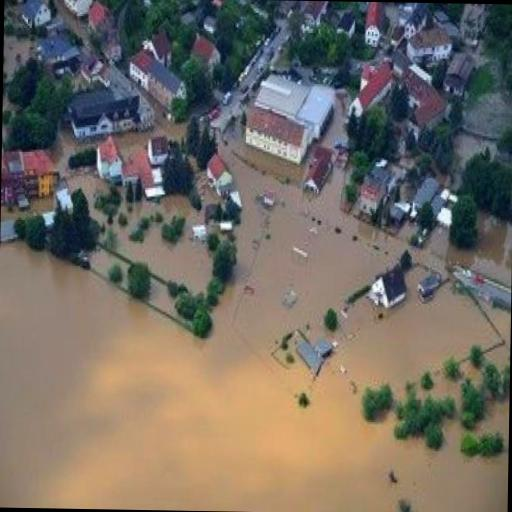house: (244, 83, 318, 166), (102, 130, 170, 208), (67, 88, 144, 144), (348, 58, 394, 146), (1, 148, 60, 212), (406, 69, 450, 139), (147, 52, 187, 120), (368, 260, 414, 310), (409, 22, 453, 70), (188, 32, 222, 78), (306, 148, 333, 195), (362, 2, 386, 48), (204, 154, 234, 188), (446, 51, 476, 83), (128, 52, 152, 90), (22, 0, 52, 26), (60, 0, 93, 21), (301, 1, 327, 27), (338, 10, 356, 40)
